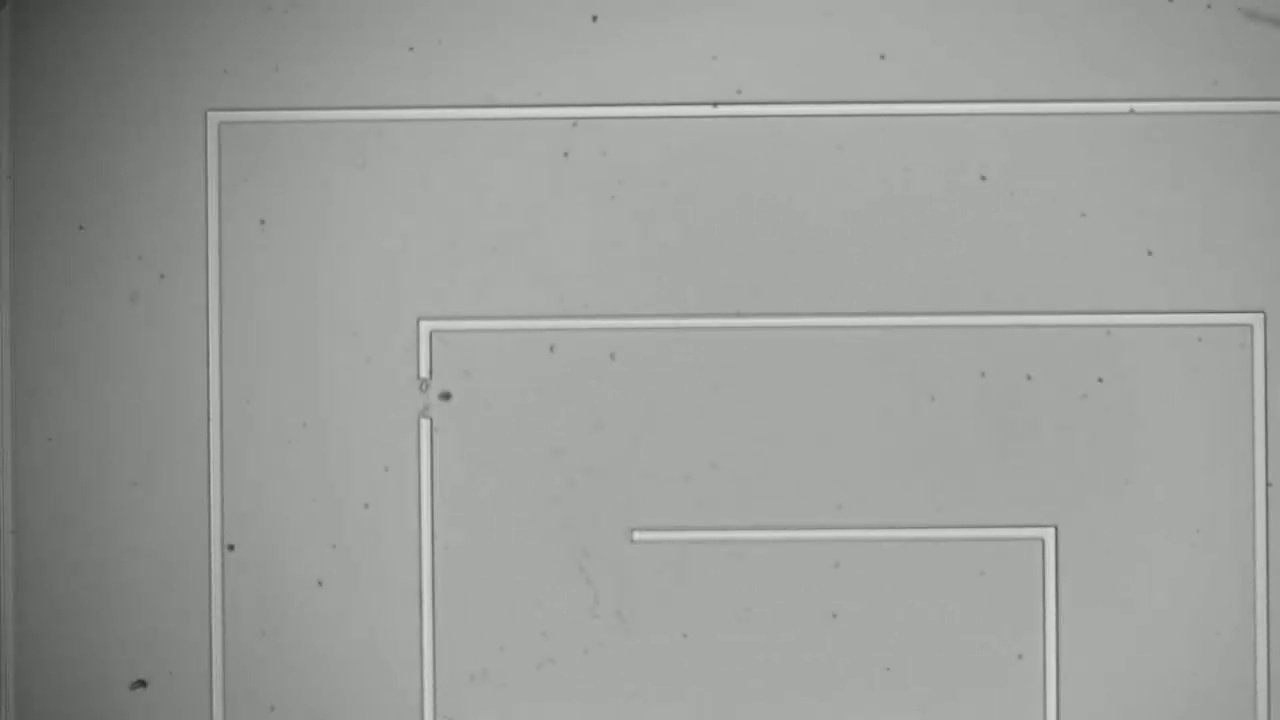open: (401, 358, 441, 445)
